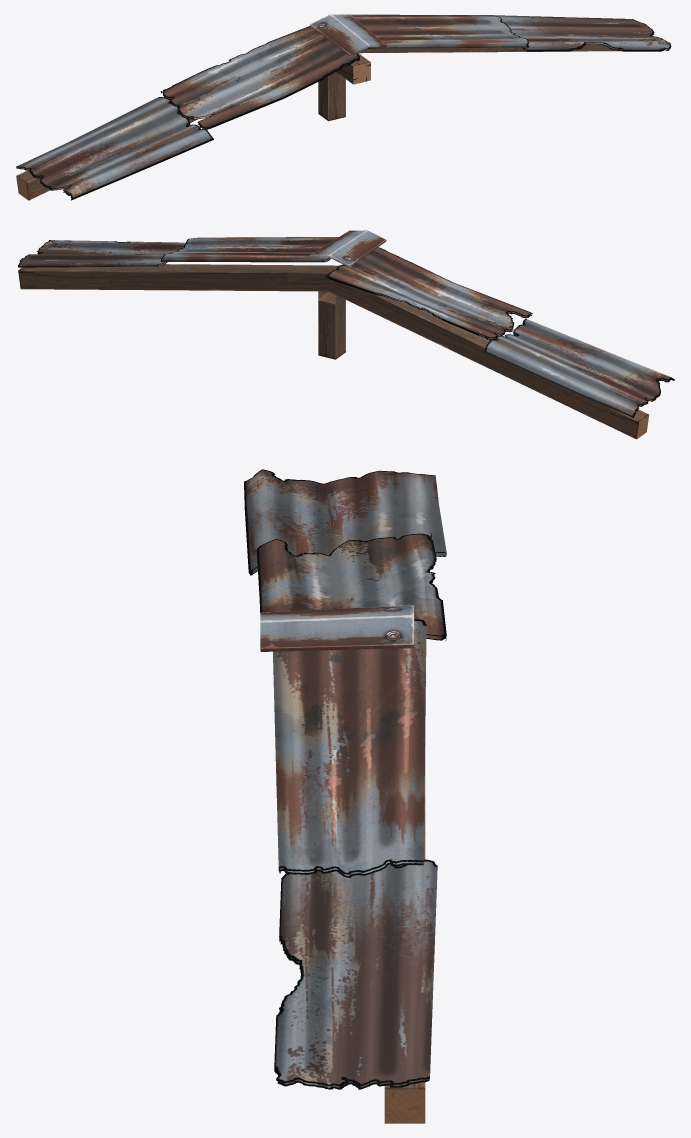
Rendered from roof05_6m_end.fbx.
3 renders of one model, top to bottom at view 1: azimuth 30°, elevation 25°; view 2: azimuth 150°, elevation 25°; view 3: azimuth 270°, elevation 25°, orthographic. The views are drawn at different scales.
Parts seen in each view (by area): view 1: roof05_6m_end; view 2: roof05_6m_end; view 3: roof05_6m_end.
Boxes of the visible parts, bbox=[...] form: roof05_6m_end: bbox=[16, 14, 671, 200]; roof05_6m_end: bbox=[18, 230, 674, 439]; roof05_6m_end: bbox=[244, 469, 446, 1123].
Bounding box in the file's own units: 715 × 115 × 101.
